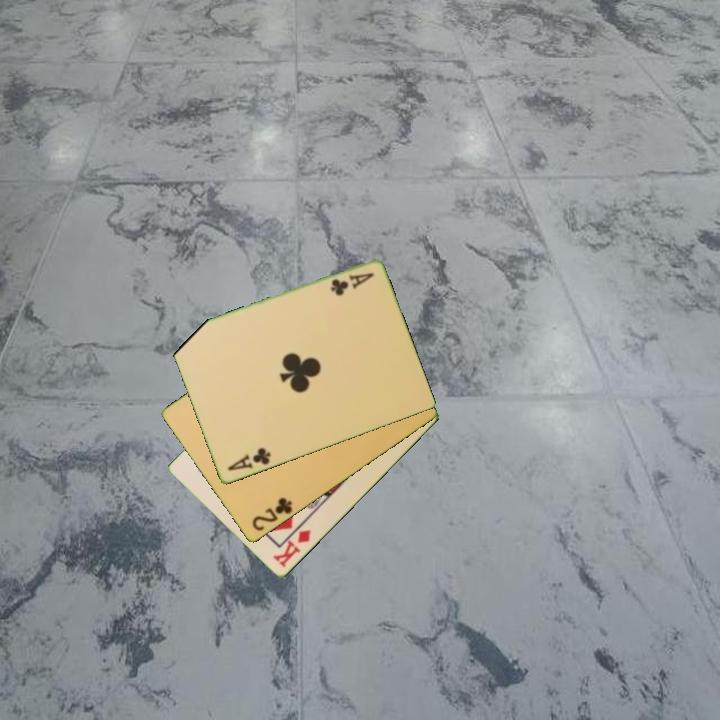2c: (248, 494, 295, 534)
Ac: (326, 269, 377, 299), (224, 444, 273, 474)
Kd: (269, 526, 314, 571)
